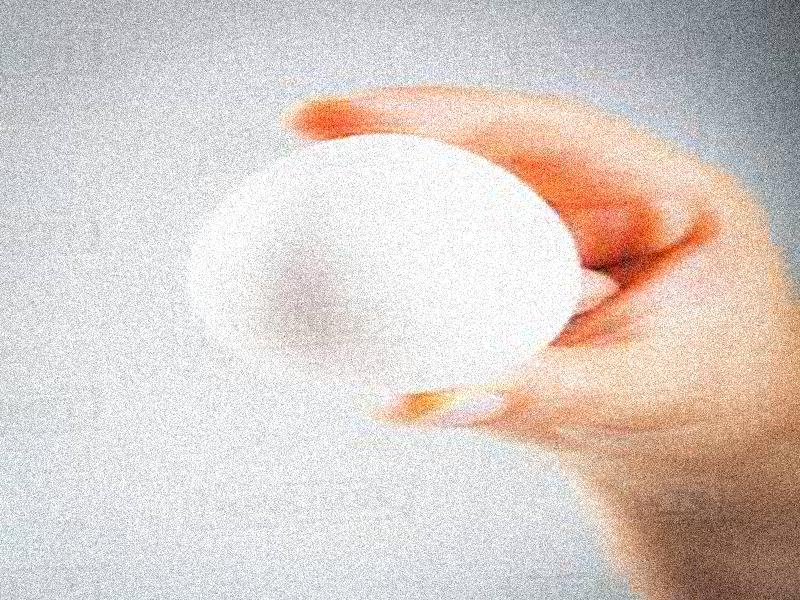Eggs: (188, 133, 577, 388)
